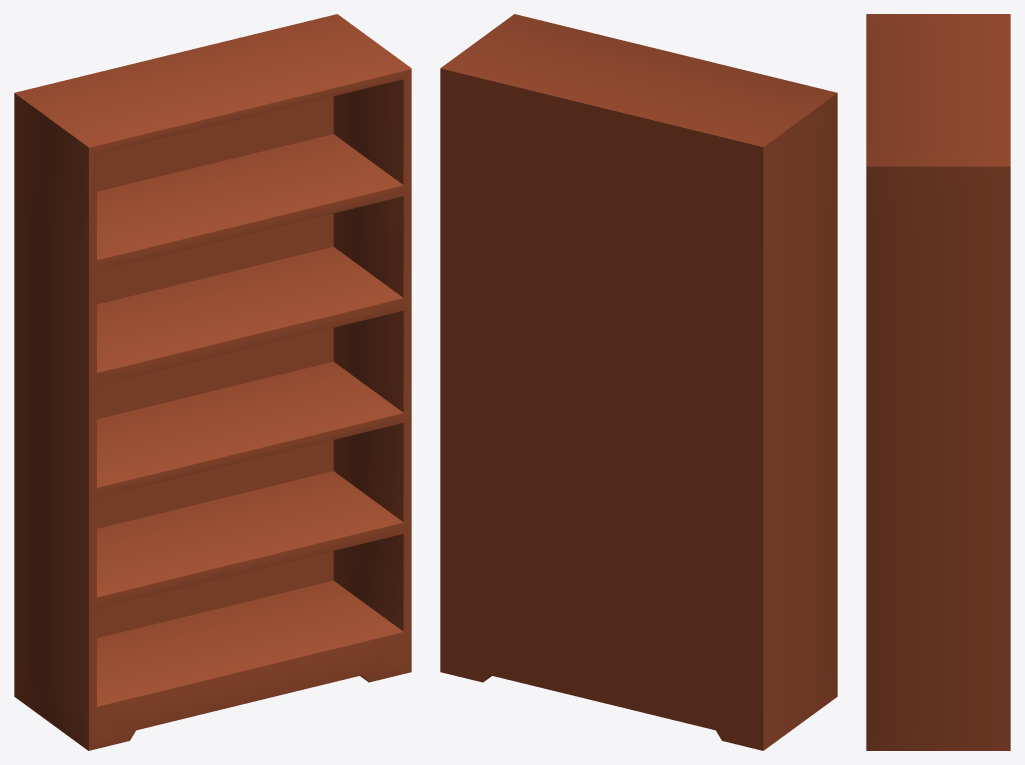
File: Estanteria.fbx
3 views of the same model, side by side, from view 1: azimuth 30°, elevation 25°; view 2: azimuth 150°, elevation 25°; view 3: azimuth 270°, elevation 25° (orthographic). The views are drawn at different scales.
Visible parts, largest first — view 1: Librero; view 2: Librero; view 3: Librero.
Boxes of the visible parts, x1=… form: Librero: x1=14, y1=14, x2=411, y2=750; Librero: x1=440, y1=14, x2=837, y2=750; Librero: x1=866, y1=14, x2=1010, y2=750.
Size of the model in its own units: 44.67 by 79.72 by 17.87.
